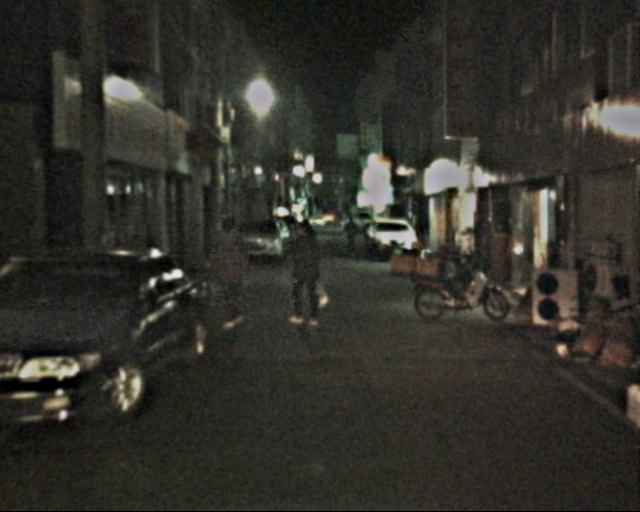person: (205, 218, 252, 331), (284, 219, 330, 332), (343, 216, 361, 254)
